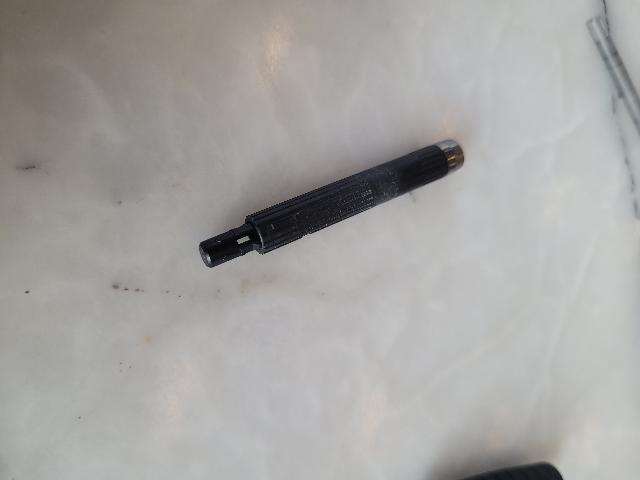Plastik: (192, 129, 501, 287)
